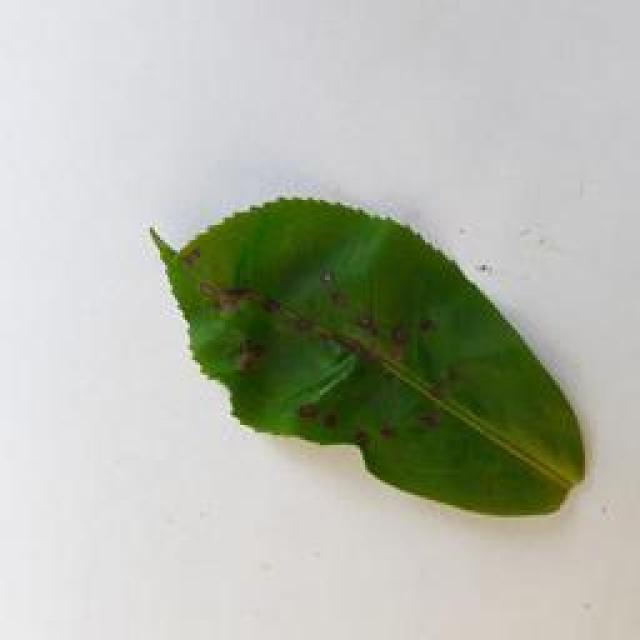Helopeltis: (145, 185, 601, 528)
